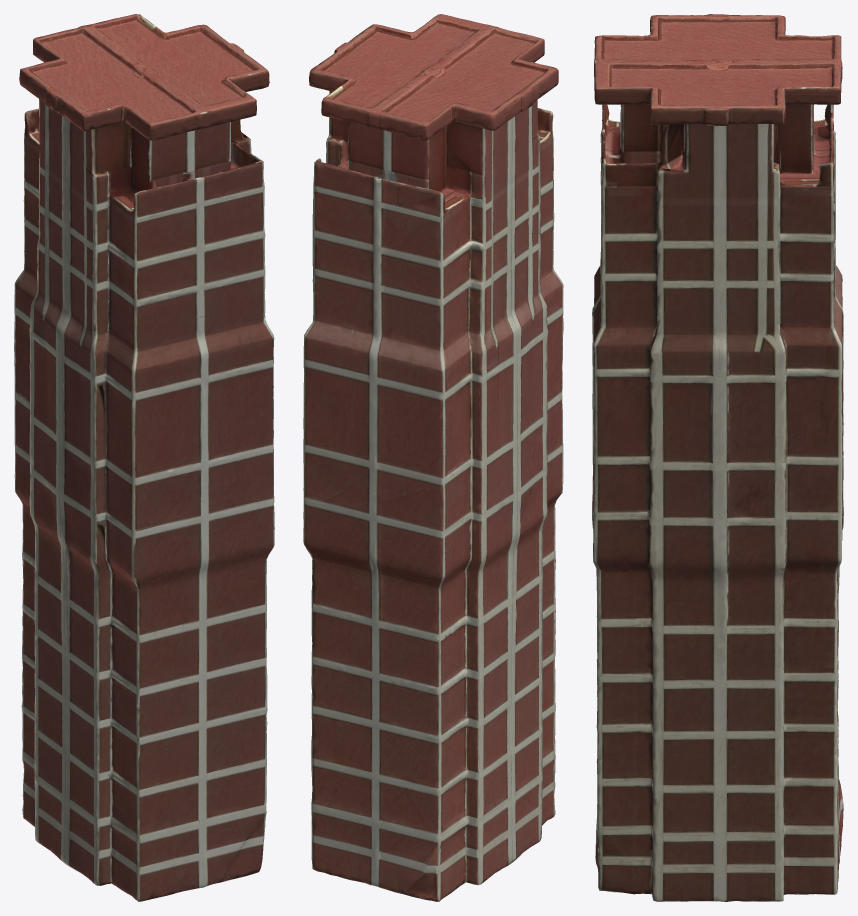
Rendered from 롯데_원경빌딩.glb.
3 views of the same model, side by side, from view 1: azimuth 30°, elevation 25°; view 2: azimuth 150°, elevation 25°; view 3: azimuth 270°, elevation 25° (orthographic). The views are drawn at different scales.
Visible parts, largest first — view 1: texture_mapping; view 2: texture_mapping; view 3: texture_mapping.
Part boxes in pixels (x1,y1,x2,y2): texture_mapping: (14,14,274,901); texture_mapping: (303,14,563,901); texture_mapping: (592,14,843,901).
Size of the model in its own units: 0.257 by 0.9998 by 0.2843.
Materials: 1 (1 with a texture image).
